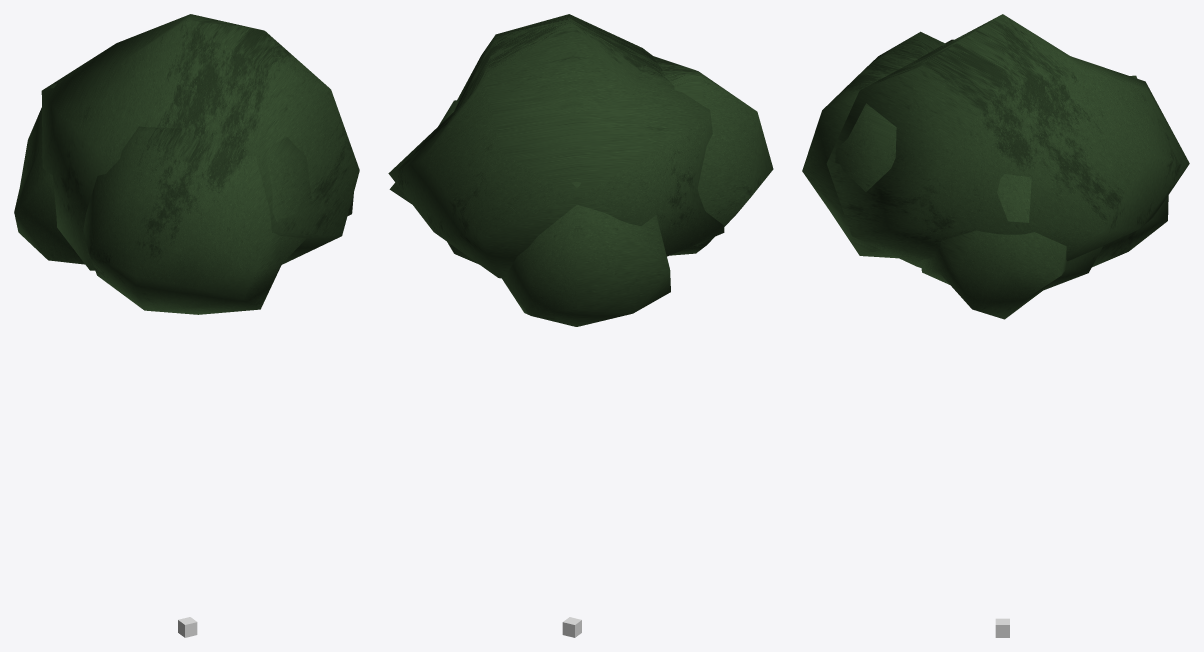
Rendered from bush_box.glb.
3 renders of one model, left to right at view 1: azimuth 30°, elevation 25°; view 2: azimuth 150°, elevation 25°; view 3: azimuth 270°, elevation 25°, orthographic.
Visible parts, largest first — view 1: bush_box; view 2: bush_box; view 3: bush_box.
Boxes of the visible parts, x1=… form: bush_box: x1=14, y1=14, x2=359, y2=314; bush_box: x1=388, y1=14, x2=773, y2=326; bush_box: x1=802, y1=14, x2=1189, y2=319.
Size of what is drawn, in the model's own units: 0.952 by 1.9 by 1.07.
Materials: 1 (1 with a texture image).
